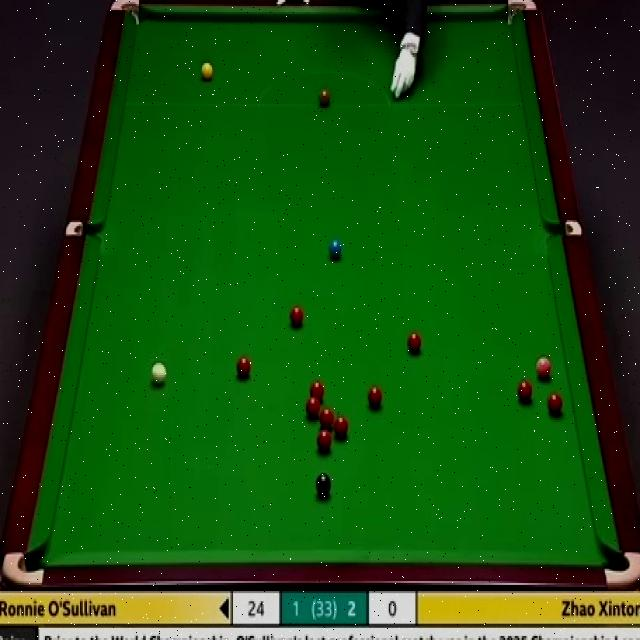black-ball: (316, 472, 332, 498)
blue-ball: (330, 237, 342, 260)
brown-ball: (318, 88, 332, 107)
pink-ball: (535, 356, 552, 378)
red-ball: (368, 384, 385, 411), (546, 392, 564, 415), (288, 306, 306, 328), (517, 378, 532, 404), (334, 414, 349, 439), (306, 397, 320, 421), (320, 410, 336, 431), (408, 331, 422, 354), (236, 354, 250, 377), (310, 381, 324, 403), (317, 430, 331, 452)
white-ball: (151, 362, 166, 386)
yellow-ball: (200, 60, 214, 83)
